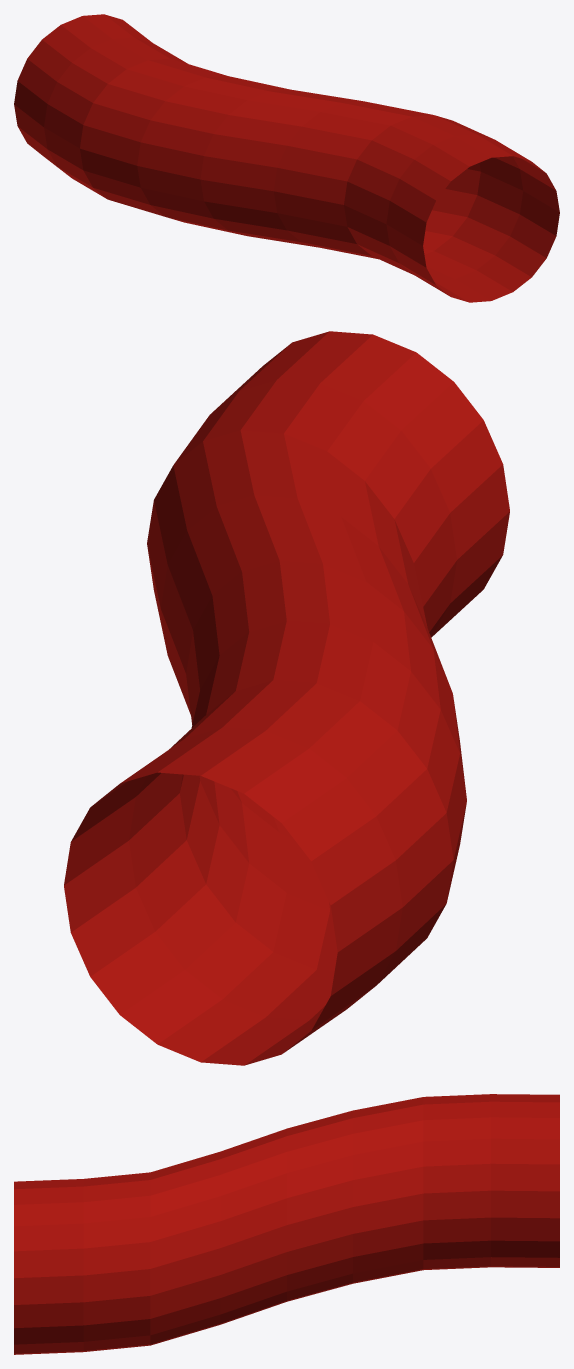
Rendered from Vessel_biaisleft_100_outside.fbx.
3 renders of one model, top to bottom at view 1: azimuth 30°, elevation 25°; view 2: azimuth 150°, elevation 25°; view 3: azimuth 270°, elevation 25°, orthographic. The views are drawn at different scales.
Visible parts, largest first — view 1: Vessel_biaisleft_100; view 2: Vessel_biaisleft_100; view 3: Vessel_biaisleft_100.
Boxes of the visible parts, x1,y1,x2,y2 form: Vessel_biaisleft_100: (14, 14, 559, 302); Vessel_biaisleft_100: (64, 331, 509, 1065); Vessel_biaisleft_100: (14, 1094, 559, 1354).
Bounding box in the file's own units: 13.97 × 6.39 × 20.
